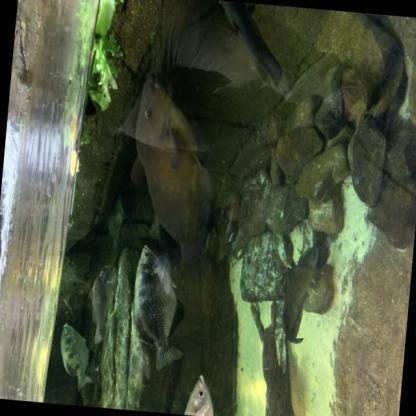fish: (124, 74, 222, 269), (125, 245, 193, 374), (207, 0, 288, 89), (54, 320, 99, 393), (84, 262, 116, 346), (181, 372, 220, 415)
